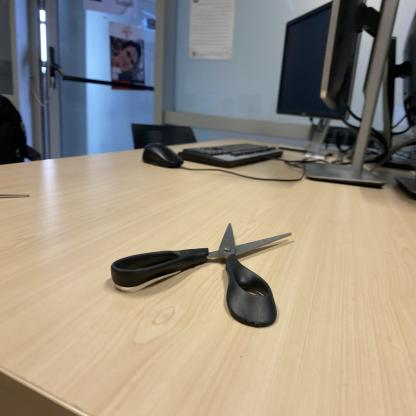scissors: (109, 223, 298, 329), (0, 172, 35, 202)
